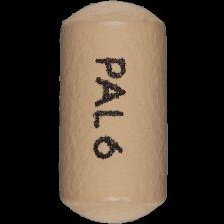50458-551: (0, 0, 224, 224)
